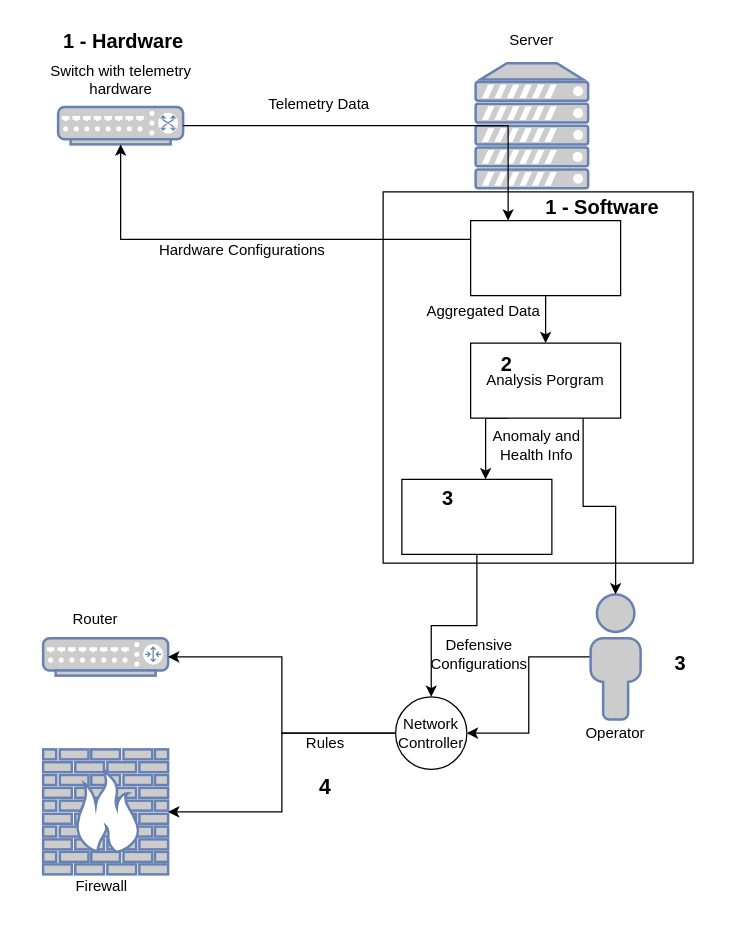
The diagram is 740 pixels wide and 926 high, and some of its shapes have lost their labels. Each missing label, with the box of its shape:
Control Program: (401, 478, 552, 554)
Telemetry Collection Program: (469, 219, 621, 296)
